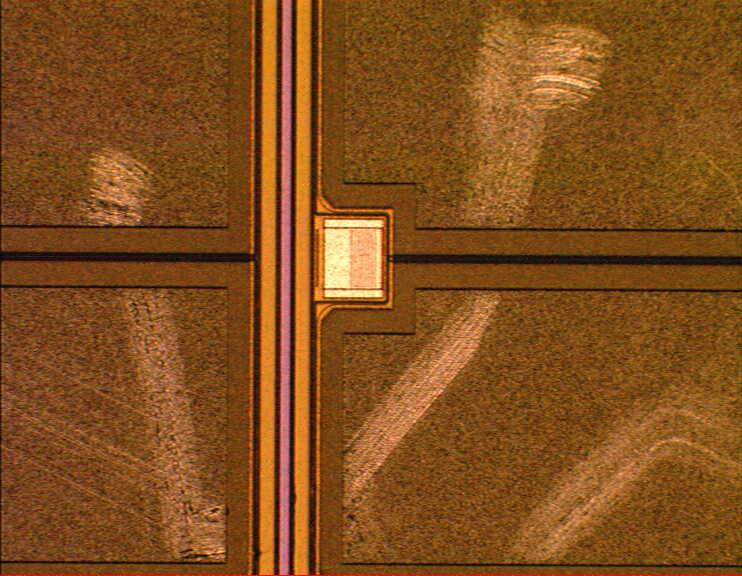SCRATCH: (1, 12, 742, 576)
